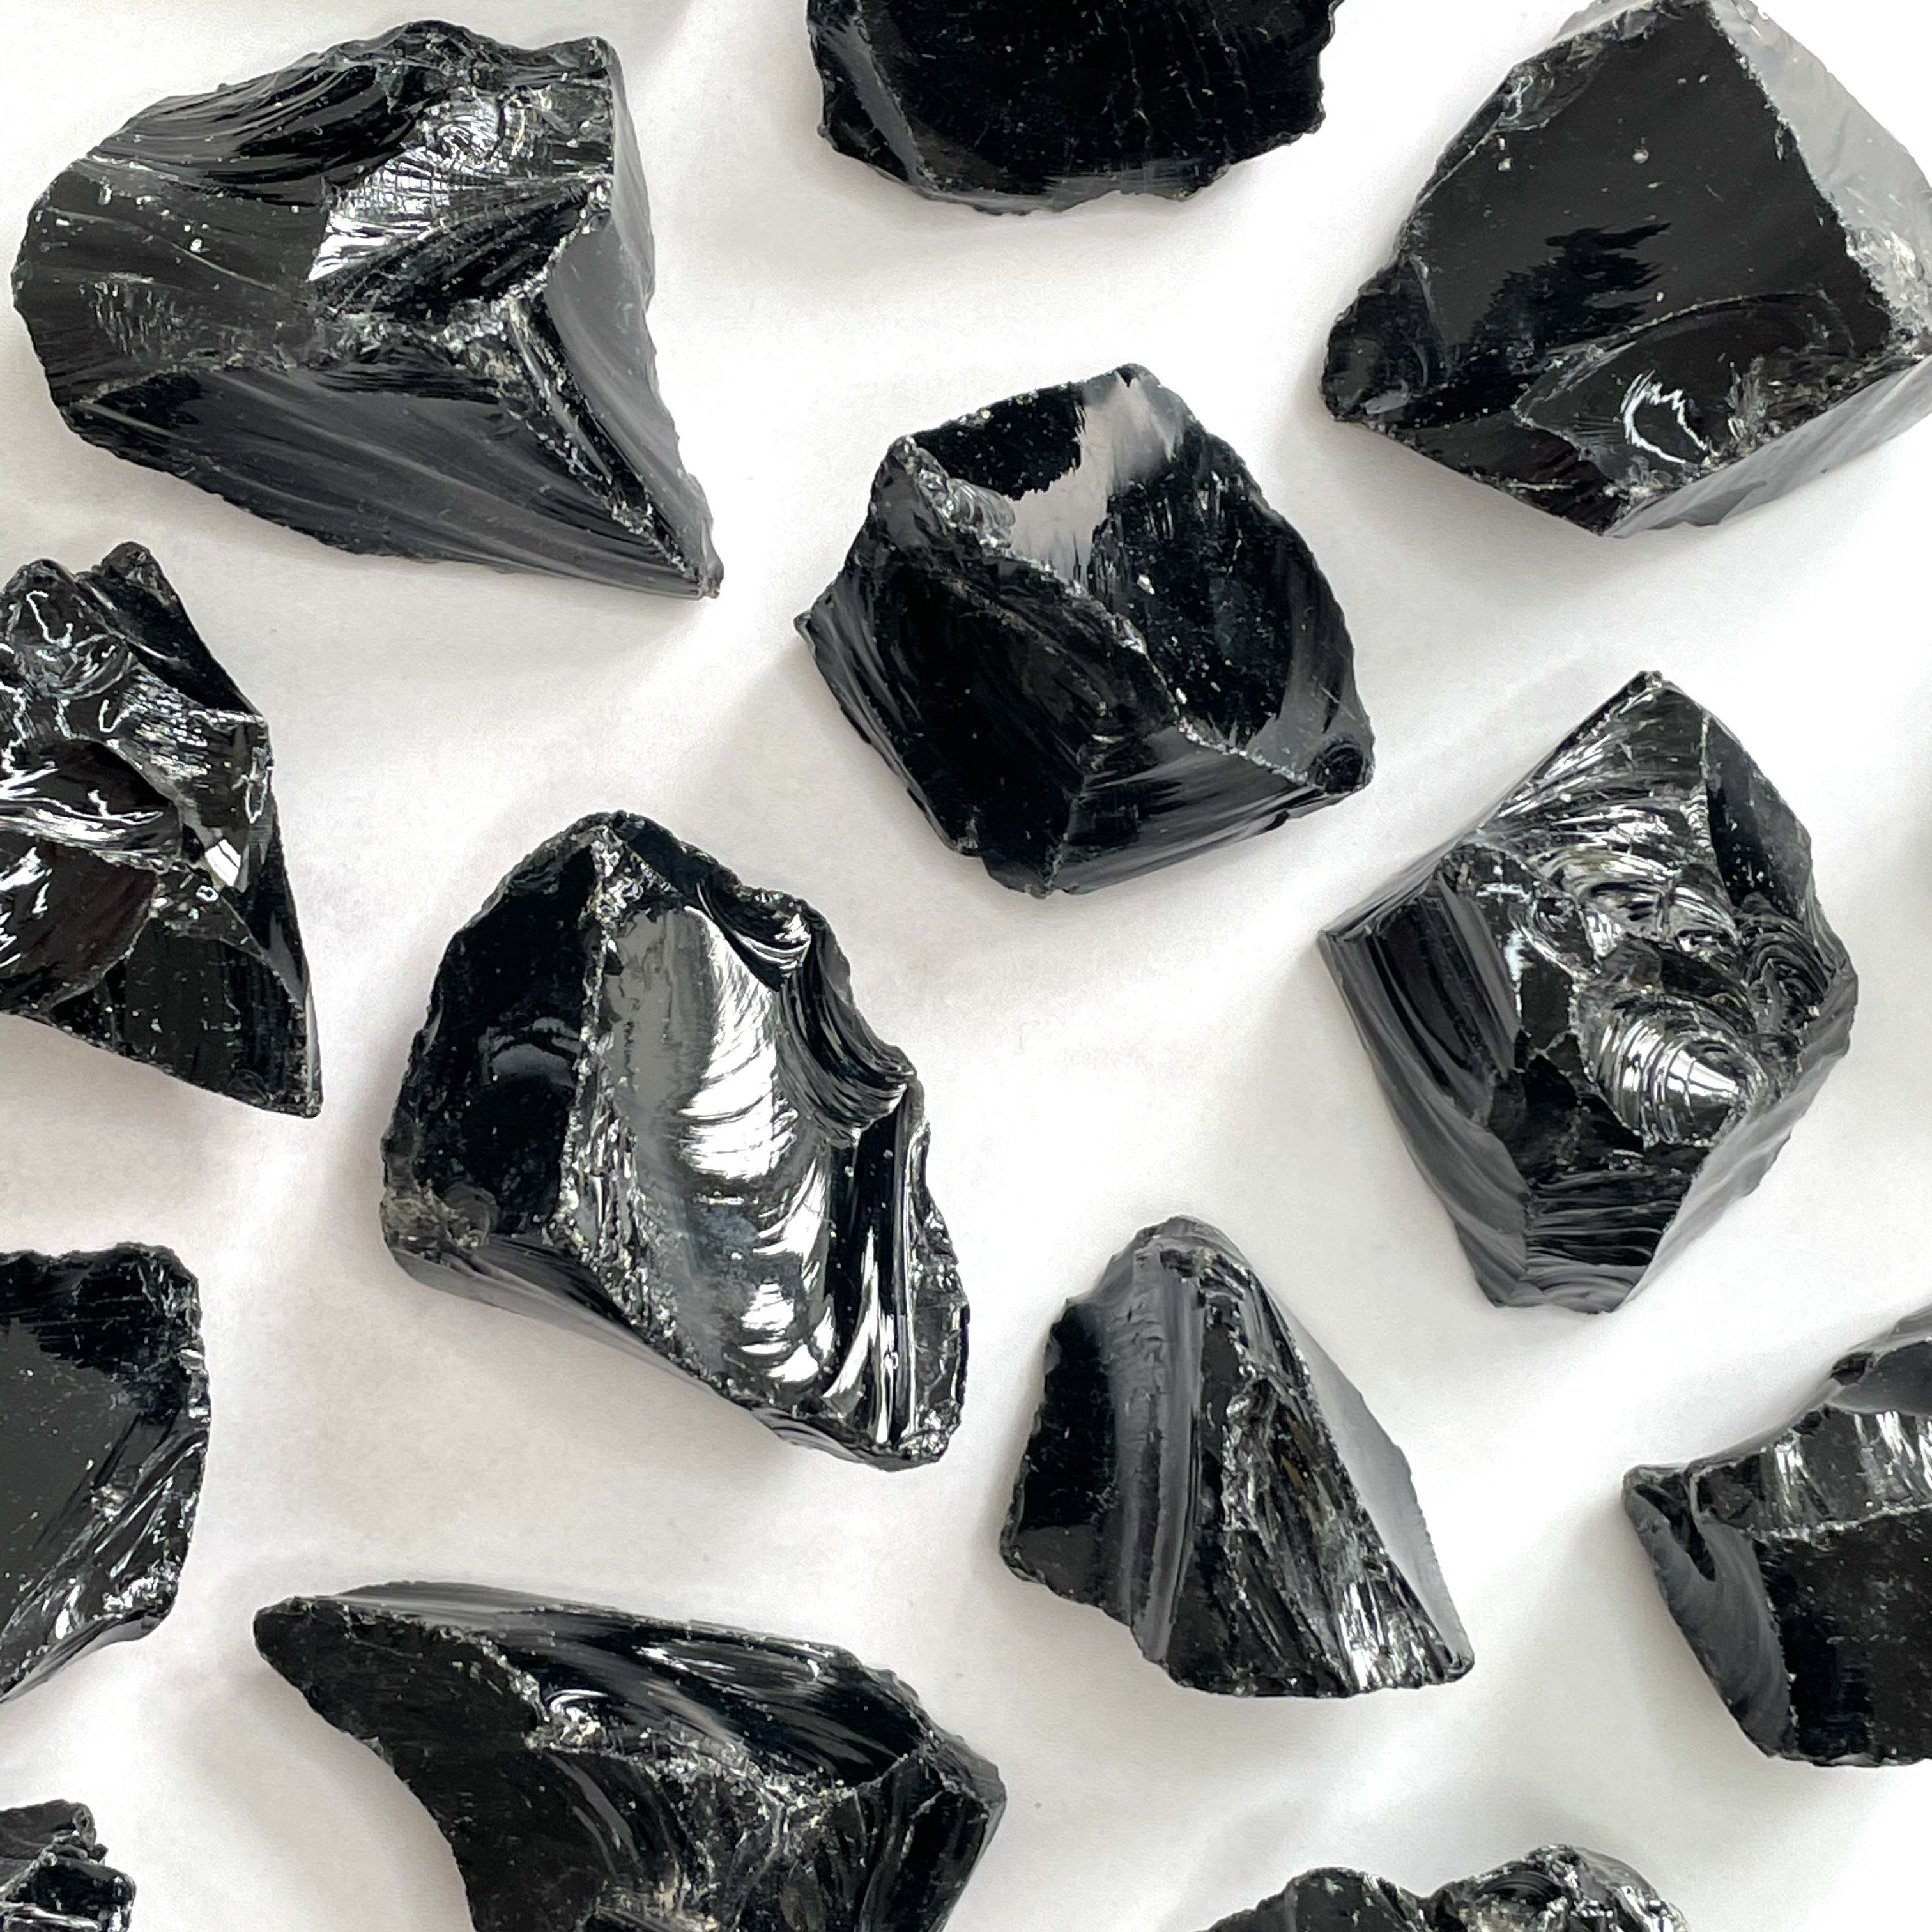Obsidian: (0, 0, 727, 596), (373, 810, 975, 1477), (1309, 0, 1932, 540), (793, 352, 1378, 888), (998, 1207, 1484, 1711)
